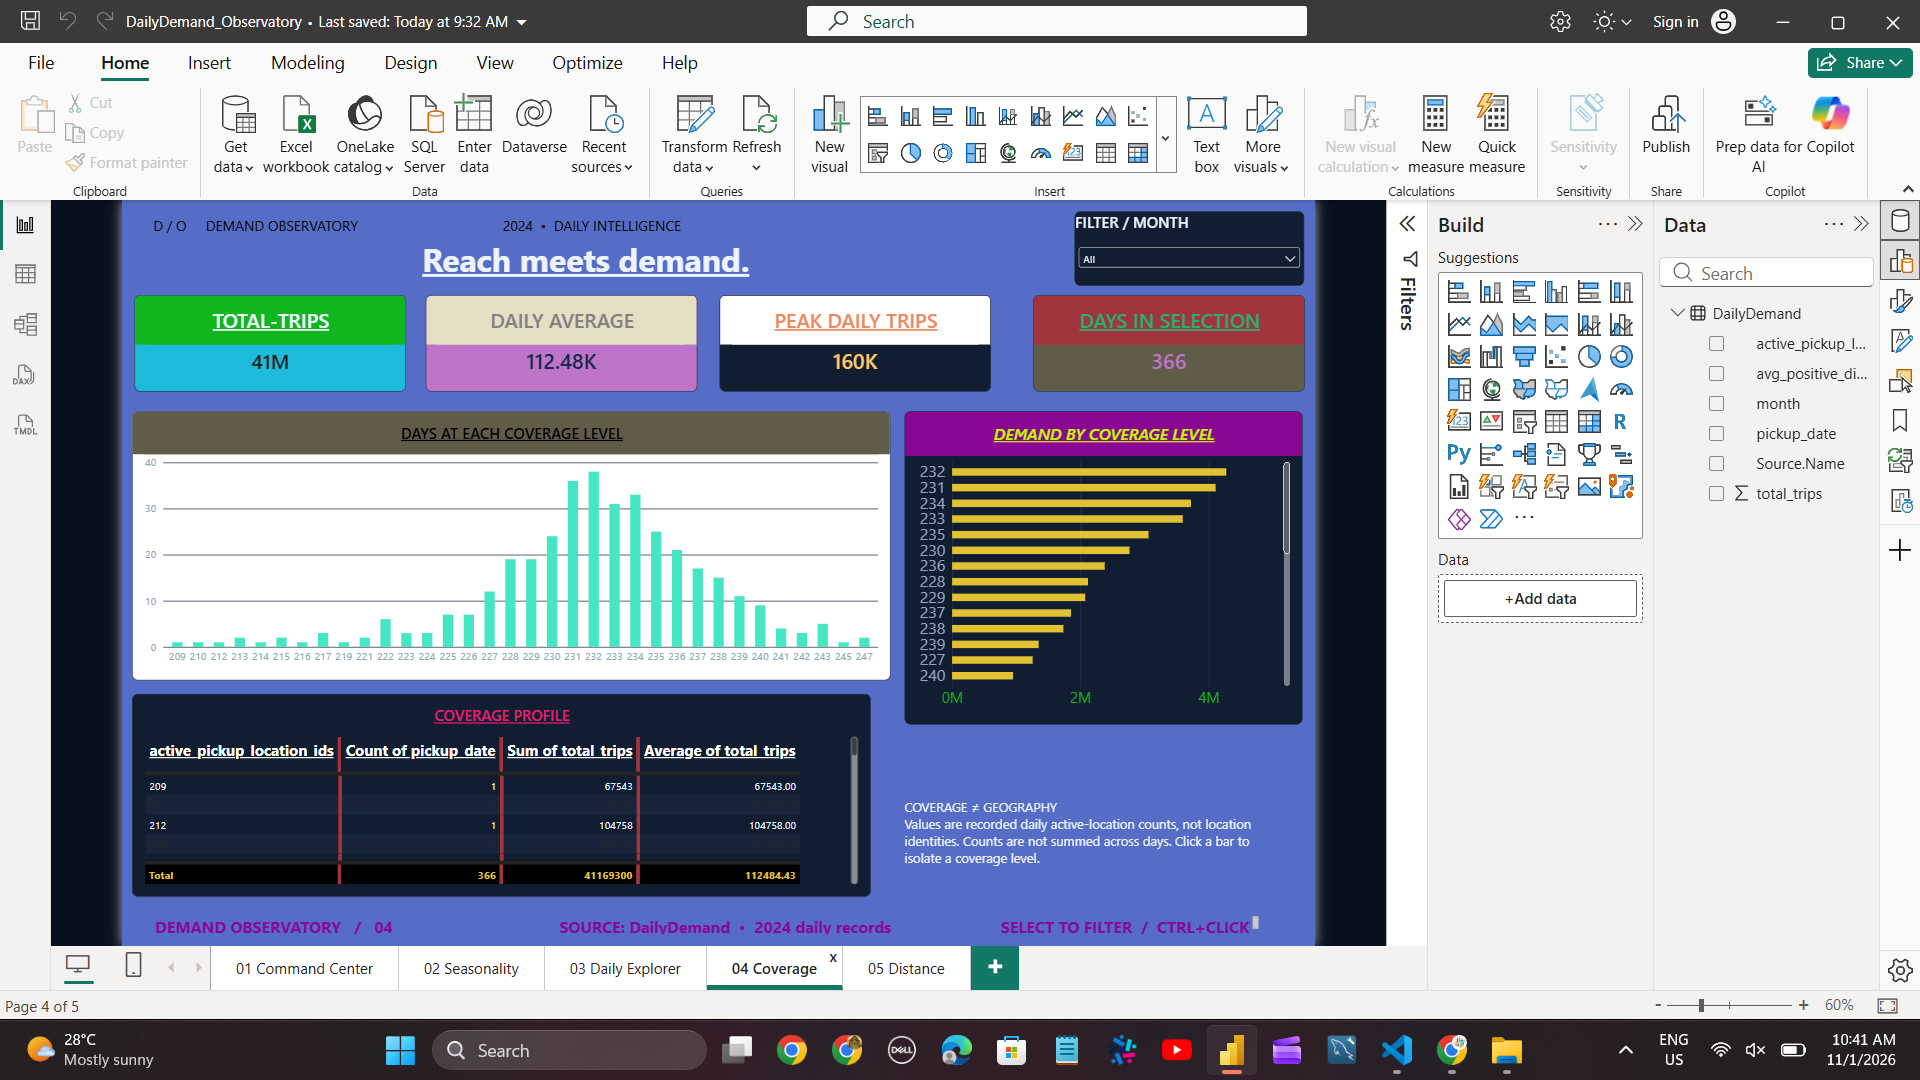

This screenshot's page, from the dashboard's own definition file:
{"tool":"powerbi","page":{"name":"04  Coverage","canvas":[1600,1000],"ordinal":3},"visuals":[{"type":"textbox","box":[42,22,900,28],"z":0},{"type":"textbox","box":[41.5,50.5,1159.6,64.9],"z":1000},{"type":"slicer","title":"FILTER / MONTH","fields":{"Values":["DailyDemand.month"]},"box":[1276.8,14.4,308,100],"z":4000},{"type":"card","title":"TOTAL-TRIPS","fields":{"Values":["Sum(DailyDemand.total_trips)"]},"box":[16.2,128,364.3,129.8],"z":5000},{"type":"card","title":"DAILY AVERAGE","fields":{"Values":["Avg(DailyDemand.total_trips)"]},"box":[407.6,128,364.3,129.8],"z":6000},{"type":"card","title":"PEAK DAILY TRIPS","fields":{"Values":["Max(DailyDemand.total_trips)"]},"box":[800.7,128,364.3,129.8],"z":7000},{"type":"card","title":"DAYS IN SELECTION","fields":{"Values":["CountNonNull(DailyDemand.pickup_date)"]},"box":[1220.9,128,364.3,129.8],"z":8000},{"type":"clusteredColumnChart","title":"DAYS AT EACH COVERAGE LEVEL","fields":{"Category":["DailyDemand.active_pickup_location_ids"],"Y":["CountNonNull(DailyDemand.pickup_date)"]},"box":[12.6,283.1,1017.1,360.7],"z":9000},{"type":"clusteredBarChart","title":"DEMAND BY COVERAGE LEVEL","fields":{"Category":["DailyDemand.active_pickup_location_ids"],"Y":["Sum(DailyDemand.total_trips)"]},"box":[1049.6,283.1,533.8,420.2],"z":10000},{"type":"tableEx","title":"COVERAGE PROFILE","fields":{"Values":["DailyDemand.active_pickup_location_ids","CountNonNull(DailyDemand.pickup_date)","Sum(DailyDemand.total_trips)","Avg(DailyDemand.total_trips)"]},"box":[12.6,661.9,990.1,272.3],"z":11000},{"type":"textbox","box":[1049.6,802.5,479.7,122.6],"z":12000},{"type":"textbox","box":[44,960,1480,24],"z":13000}]}

Visuals, with their boxes on the page's 1600x1000 design canvas (x1, y1, x2, y2). These are canvas units, not pixel positions in the 1920x1080 screenshot, which may show the page scaled, cropped or inside an application window:
textbox: 42, 22, 942, 50
textbox: 42, 50, 1201, 115
"FILTER / MONTH" slicer: 1277, 14, 1585, 114
"TOTAL-TRIPS" card: 16, 128, 380, 258
"DAILY AVERAGE" card: 408, 128, 772, 258
"PEAK DAILY TRIPS" card: 801, 128, 1165, 258
"DAYS IN SELECTION" card: 1221, 128, 1585, 258
"DAYS AT EACH COVERAGE LEVEL" clusteredColumnChart: 13, 283, 1030, 644
"DEMAND BY COVERAGE LEVEL" clusteredBarChart: 1050, 283, 1583, 703
"COVERAGE PROFILE" tableEx: 13, 662, 1003, 934
textbox: 1050, 802, 1529, 925
textbox: 44, 960, 1524, 984
